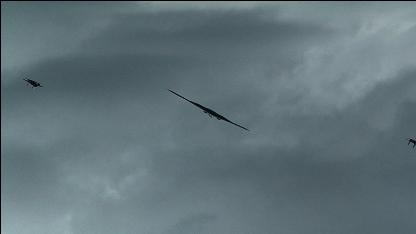B1: (165, 89, 249, 131)
F117: (20, 78, 42, 88), (403, 136, 415, 148)
